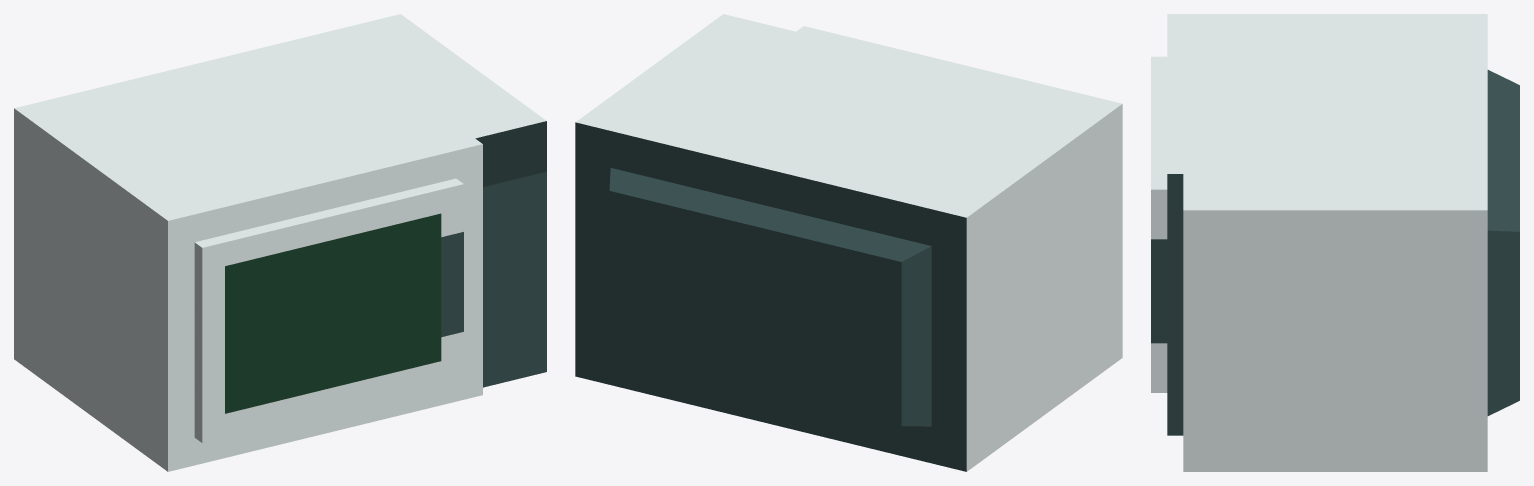
Rendered from kitchenMicrowave.glb.
The picture shows the model from 3 angles, left to right: view 1: azimuth 30°, elevation 25°; view 2: azimuth 150°, elevation 25°; view 3: azimuth 270°, elevation 25°; orthographic projection. The views are drawn at different scales.
Parts seen in each view (by area): view 1: kitchenMicrowave(Clone), Group; view 2: kitchenMicrowave(Clone); view 3: kitchenMicrowave(Clone), Group.
Boxes of the visible parts, box(x1,y1,x2,y2) form: kitchenMicrowave(Clone): box(14, 14, 546, 471); Group: box(194, 178, 463, 442); kitchenMicrowave(Clone): box(575, 14, 1122, 471); kitchenMicrowave(Clone): box(1167, 14, 1519, 471); Group: box(1151, 56, 1167, 392).
Bounding box in the file's own units: 0.29 × 0.18 × 0.23.
Materials: 4 (4 with a texture image).
